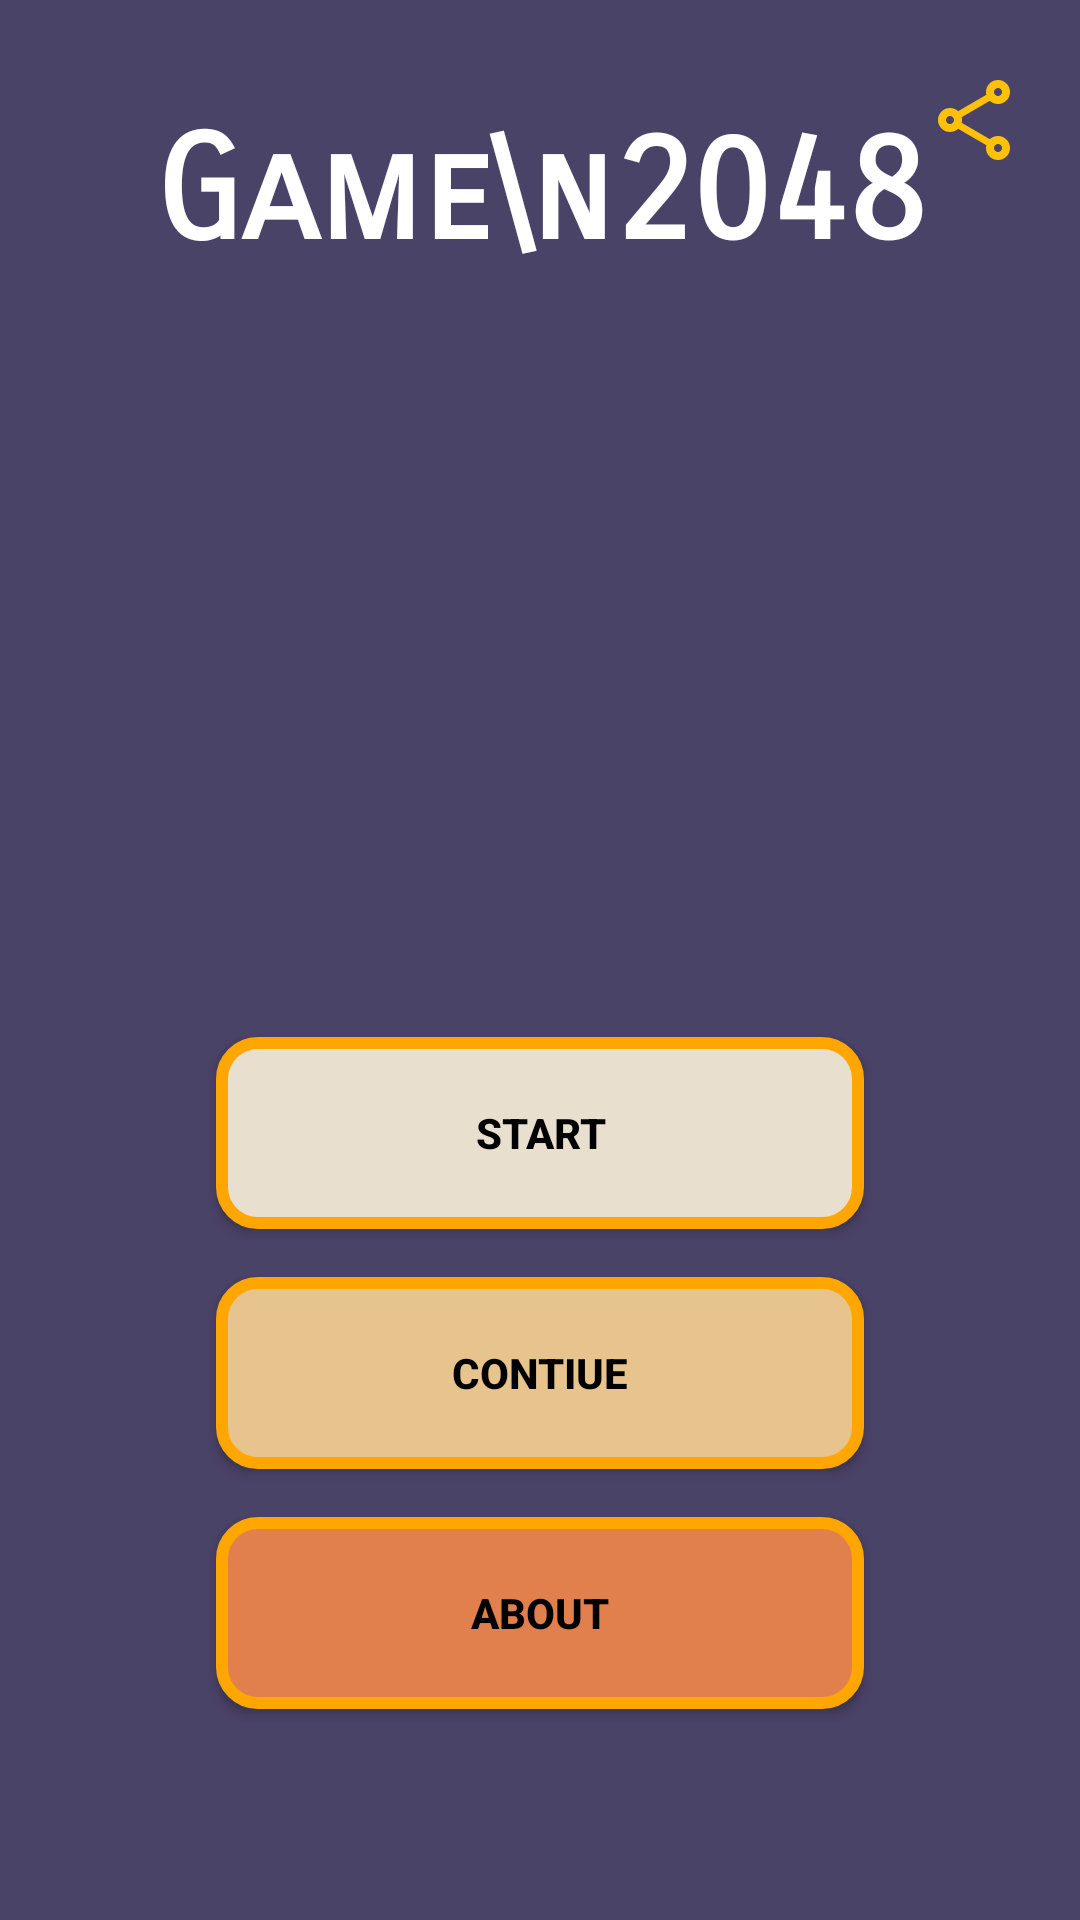

Point at icon controls on the screen. Image size 1080*1920, points as (x=x, y=y).
share button: (x=974, y=120)
